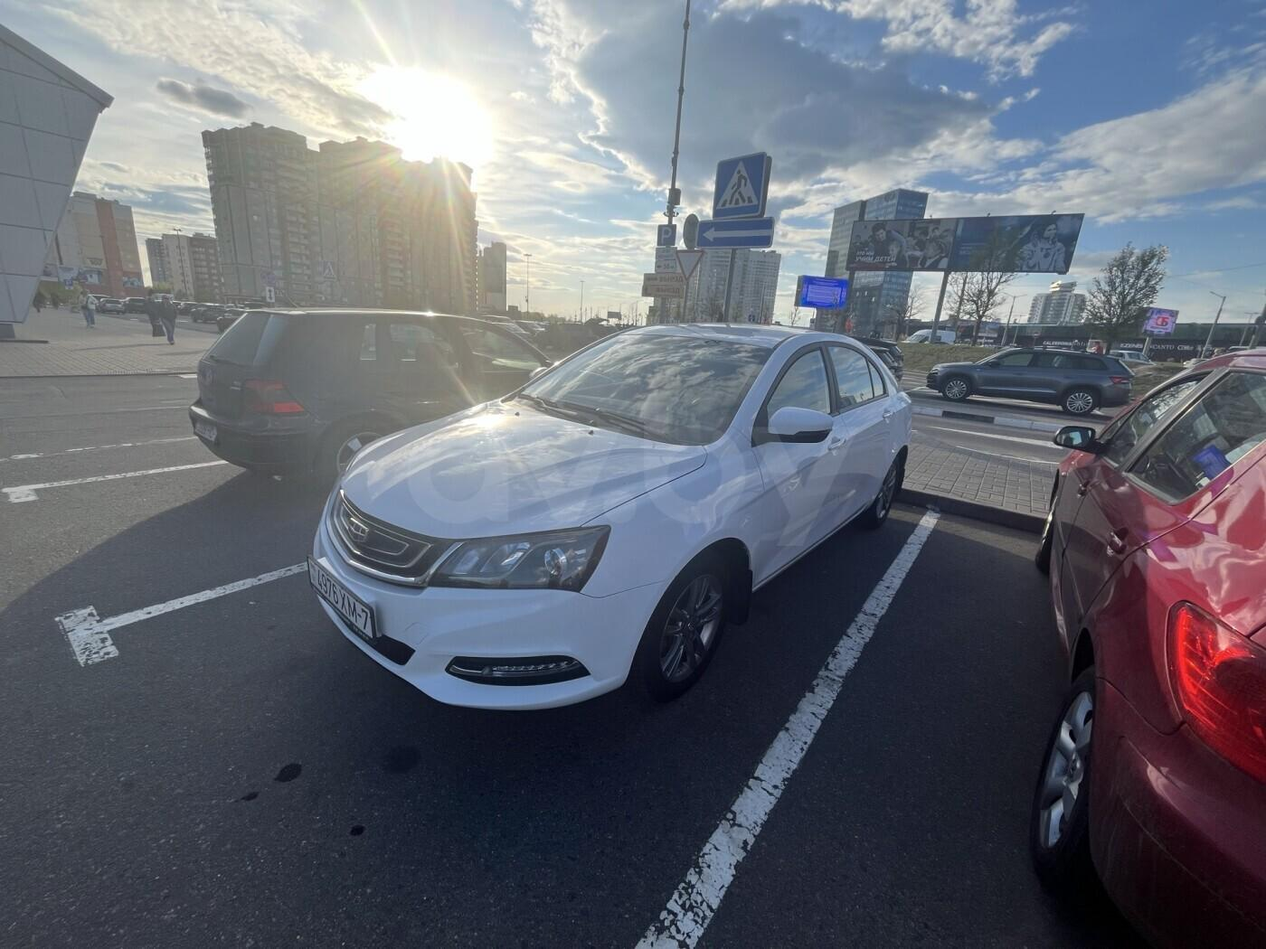Emgrand_2019-2021: (306, 324, 912, 708)
